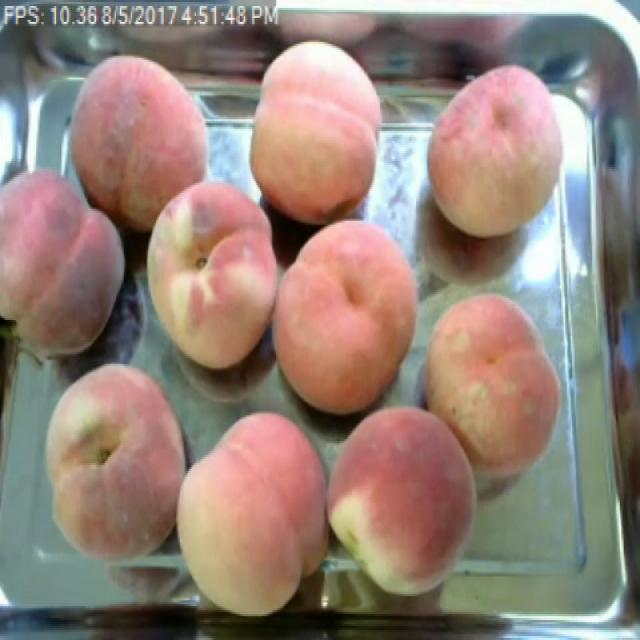Fruit: (18, 346, 206, 582), (163, 396, 349, 632), (316, 396, 488, 610), (264, 209, 433, 425), (129, 165, 287, 388), (52, 42, 224, 246), (412, 50, 580, 252), (411, 280, 576, 485), (239, 26, 400, 230), (0, 159, 140, 374)
